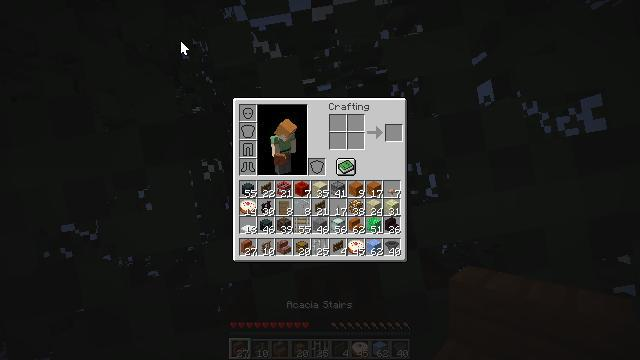cursor: (40, 180, 56, 190)
